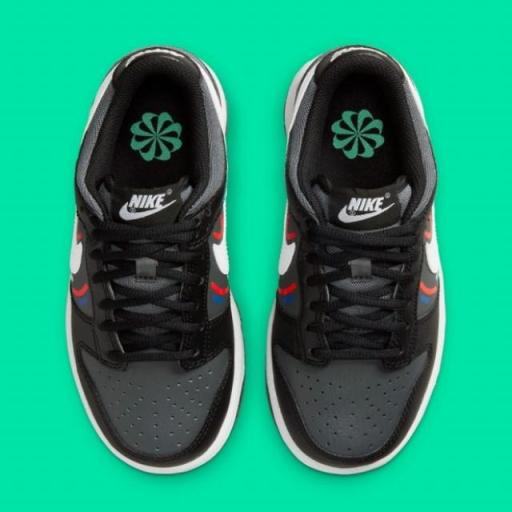Nike: (117, 208, 168, 222), (348, 198, 382, 212)
